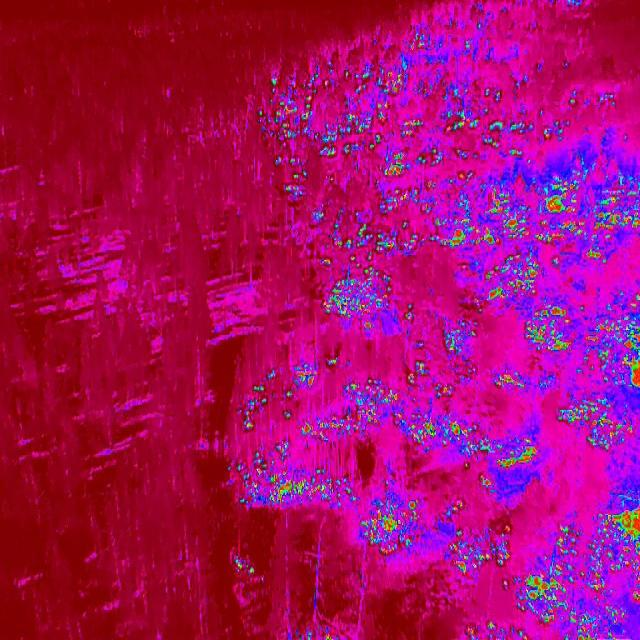fire: (258, 44, 518, 212), (237, 356, 416, 443), (310, 210, 426, 326), (529, 154, 640, 264), (402, 409, 538, 495), (512, 523, 585, 632), (235, 450, 362, 512), (589, 494, 640, 604), (586, 298, 640, 388), (557, 392, 637, 452), (431, 210, 528, 254), (360, 491, 422, 557), (478, 256, 548, 308), (519, 304, 581, 358), (446, 527, 514, 575), (487, 363, 559, 395), (439, 320, 482, 368), (572, 611, 626, 640), (518, 112, 566, 142), (458, 621, 527, 640), (232, 552, 262, 582), (445, 502, 465, 520), (562, 91, 578, 109)
